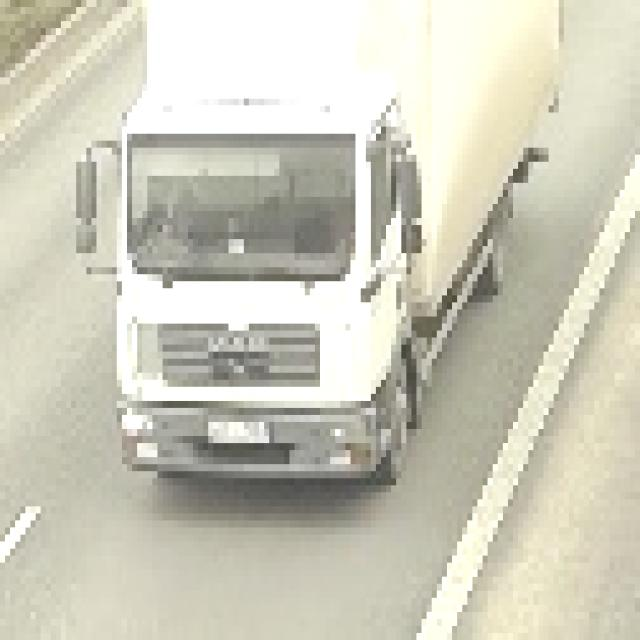truck: (72, 1, 559, 500)
